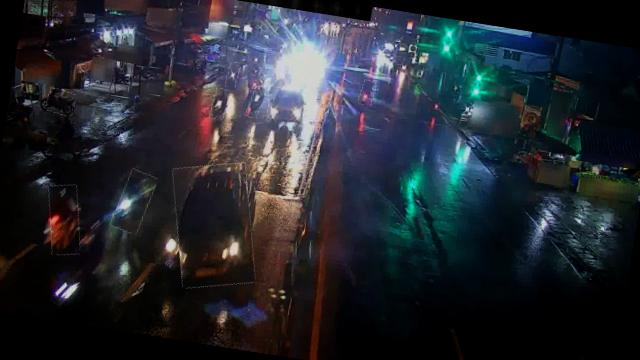Bike: (42, 182, 88, 258), (114, 168, 156, 234), (128, 64, 169, 96), (45, 88, 77, 117), (247, 84, 266, 120), (210, 87, 230, 120), (359, 79, 378, 106), (226, 62, 241, 88)
Car: (161, 156, 266, 294), (265, 85, 307, 127)
